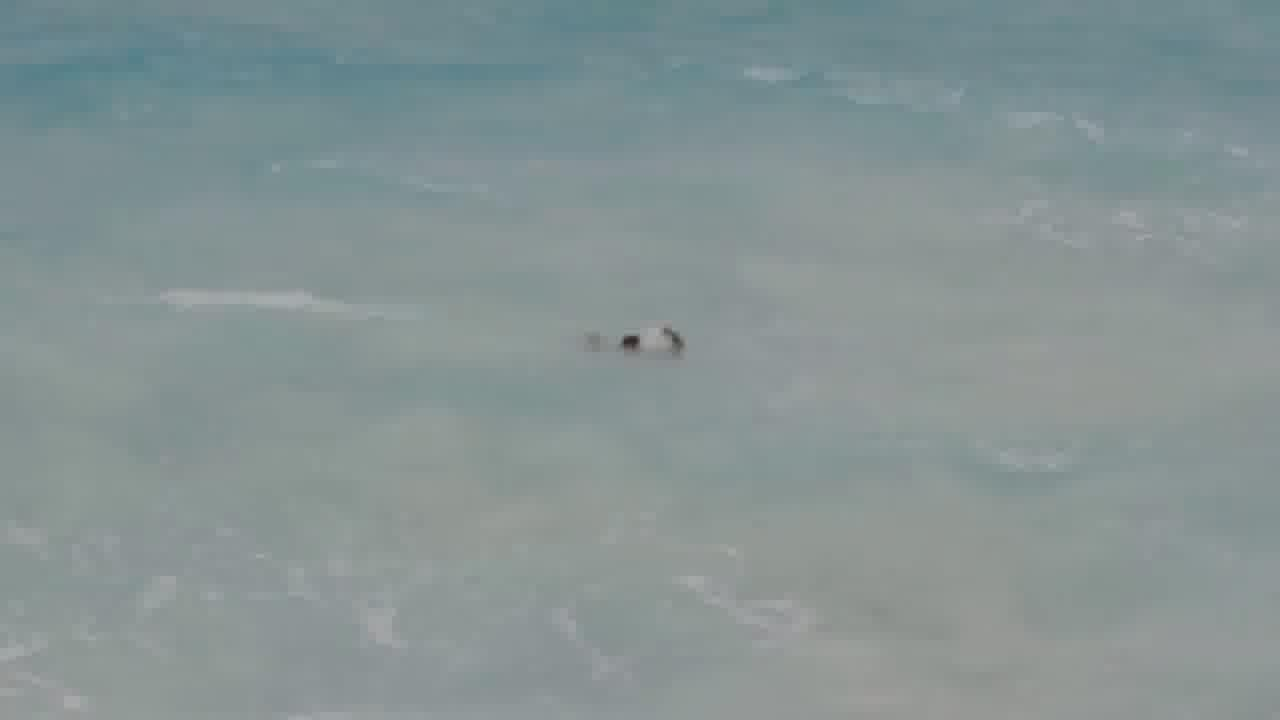swimmer: (603, 317, 689, 371)
